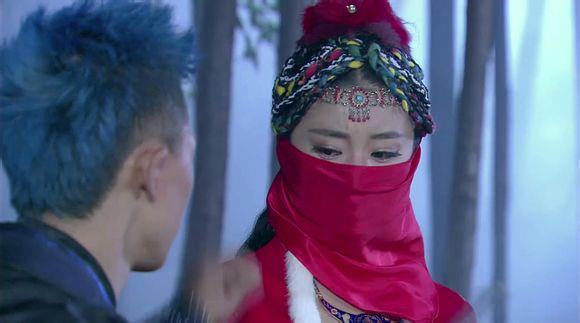OK: (297, 123, 405, 232)
